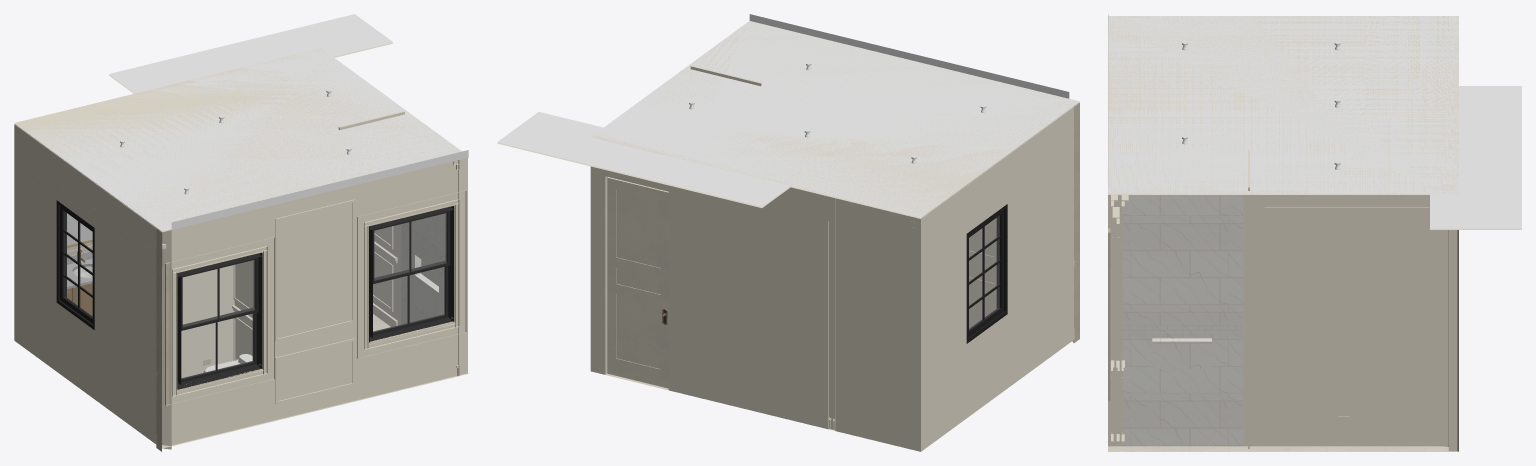
File: primary-bath-2227062fcb45.glb
3 renders of one model, left to right at view 1: azimuth 30°, elevation 25°; view 2: azimuth 150°, elevation 25°; view 3: azimuth 270°, elevation 25°, orthographic. The views are drawn at different scales.
Parts seen in each view (by area): view 1: primary-bath-b0ade14315e4f1c3, primary-bath-9d91b47435c6fb33, primary-bath-e8793759323e04f0, primary-bath-c51ecd664a3b22a3, primary-bath-60f0db96f832035a, primary-bath-b5cb73c07919def8, primary-bath-look-9d91b47435c6fb33, primary-bath-10eba734bfa580f9, primary-bath-20932135983111ad, primary-bath-62353aa10fc57f23, primary-bath-696f63e7cd8f31cf, primary-bath-2bc0761cc32b9613 (+9 smaller); view 2: primary-bath-9ecc0d558be1c706, primary-bath-9d91b47435c6fb33, primary-bath-c51ecd664a3b22a3, primary-bath-e8793759323e04f0, primary-bath-18f70a4a9eda5dac, primary-bath-look-9d91b47435c6fb33, primary-bath-20932135983111ad, primary-bath-25ea03c5717987c5, primary-bath-e48b5483df8cacdb, primary-bath-b88ac105ef7c3bdb, primary-bath-62353aa10fc57f23; view 3: primary-bath-9d91b47435c6fb33, primary-bath-fc6585fecfaf7ec3, primary-bath-e8793759323e04f0, primary-bath-3d8660a29b1e398e, primary-bath-2bc0761cc32b9613, primary-bath-look-9d91b47435c6fb33, primary-bath-c791a0f218fead78, primary-bath-9ecc0d558be1c706, primary-bath-343da8f45fc39332, primary-bath-b3921aced1f99593, primary-bath-b3dc771ed6f89851, primary-bath-38b306e83be12a4b (+8 smaller).
Boxes of the visible parts, bbox=[...] form: primary-bath-b0ade14315e4f1c3: bbox=[171, 157, 467, 445]; primary-bath-9d91b47435c6fb33: bbox=[14, 48, 468, 232]; primary-bath-e8793759323e04f0: bbox=[14, 48, 468, 230]; primary-bath-c51ecd664a3b22a3: bbox=[14, 124, 156, 444]; primary-bath-60f0db96f832035a: bbox=[177, 252, 262, 389]; primary-bath-b5cb73c07919def8: bbox=[369, 206, 454, 342]; primary-bath-look-9d91b47435c6fb33: bbox=[109, 14, 393, 93]; primary-bath-10eba734bfa580f9: bbox=[184, 265, 234, 377]; primary-bath-20932135983111ad: bbox=[56, 200, 94, 329]; primary-bath-62353aa10fc57f23: bbox=[156, 228, 171, 451]; primary-bath-696f63e7cd8f31cf: bbox=[172, 246, 267, 396]; primary-bath-2bc0761cc32b9613: bbox=[401, 244, 444, 324]; primary-bath-9ecc0d558be1c706: bbox=[590, 166, 919, 451]; primary-bath-9d91b47435c6fb33: bbox=[591, 21, 1079, 218]; primary-bath-c51ecd664a3b22a3: bbox=[911, 107, 1073, 451]; primary-bath-e8793759323e04f0: bbox=[591, 14, 1075, 217]; primary-bath-18f70a4a9eda5dac: bbox=[607, 177, 668, 388]; primary-bath-look-9d91b47435c6fb33: bbox=[497, 112, 790, 207]; primary-bath-20932135983111ad: bbox=[966, 204, 1007, 343]; primary-bath-25ea03c5717987c5: bbox=[969, 218, 996, 328]; primary-bath-e48b5483df8cacdb: bbox=[827, 196, 836, 430]; primary-bath-b88ac105ef7c3bdb: bbox=[603, 174, 669, 390]; primary-bath-62353aa10fc57f23: bbox=[1072, 103, 1079, 342]; primary-bath-9d91b47435c6fb33: bbox=[1108, 16, 1458, 194]; primary-bath-fc6585fecfaf7ec3: bbox=[1248, 193, 1458, 451]; primary-bath-e8793759323e04f0: bbox=[1108, 14, 1458, 193]; primary-bath-3d8660a29b1e398e: bbox=[1121, 195, 1242, 324]; primary-bath-2bc0761cc32b9613: bbox=[1121, 338, 1242, 446]; primary-bath-look-9d91b47435c6fb33: bbox=[1430, 86, 1521, 229]; primary-bath-c791a0f218fead78: bbox=[1108, 189, 1247, 451]; primary-bath-9ecc0d558be1c706: bbox=[1447, 230, 1458, 451]; primary-bath-343da8f45fc39332: bbox=[1253, 434, 1439, 446]; primary-bath-b3921aced1f99593: bbox=[1108, 446, 1457, 451]; primary-bath-b3dc771ed6f89851: bbox=[1264, 207, 1428, 352]; primary-bath-38b306e83be12a4b: bbox=[1121, 324, 1242, 338].
Size of the model in its own units: 5.14 by 3.04 by 4.23.
38 materials, 8 textured.
